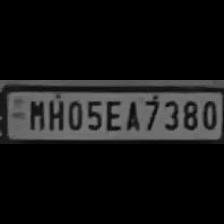0: (64, 97, 84, 130), (198, 97, 218, 129)
3: (160, 96, 180, 130)
5: (83, 97, 103, 130)
7: (140, 97, 160, 130)
8: (179, 97, 199, 130)
A: (122, 99, 140, 131)
E: (102, 97, 124, 132)
H: (44, 97, 64, 130)
M: (25, 97, 45, 129)
